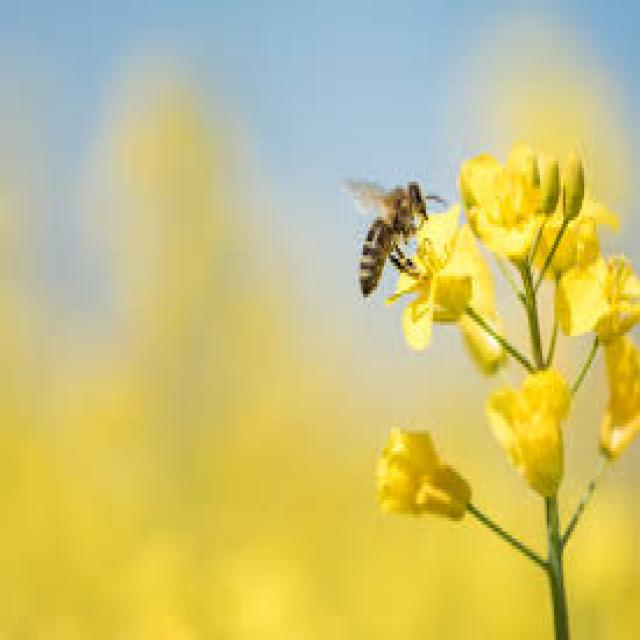Bees: (339, 172, 451, 299)
